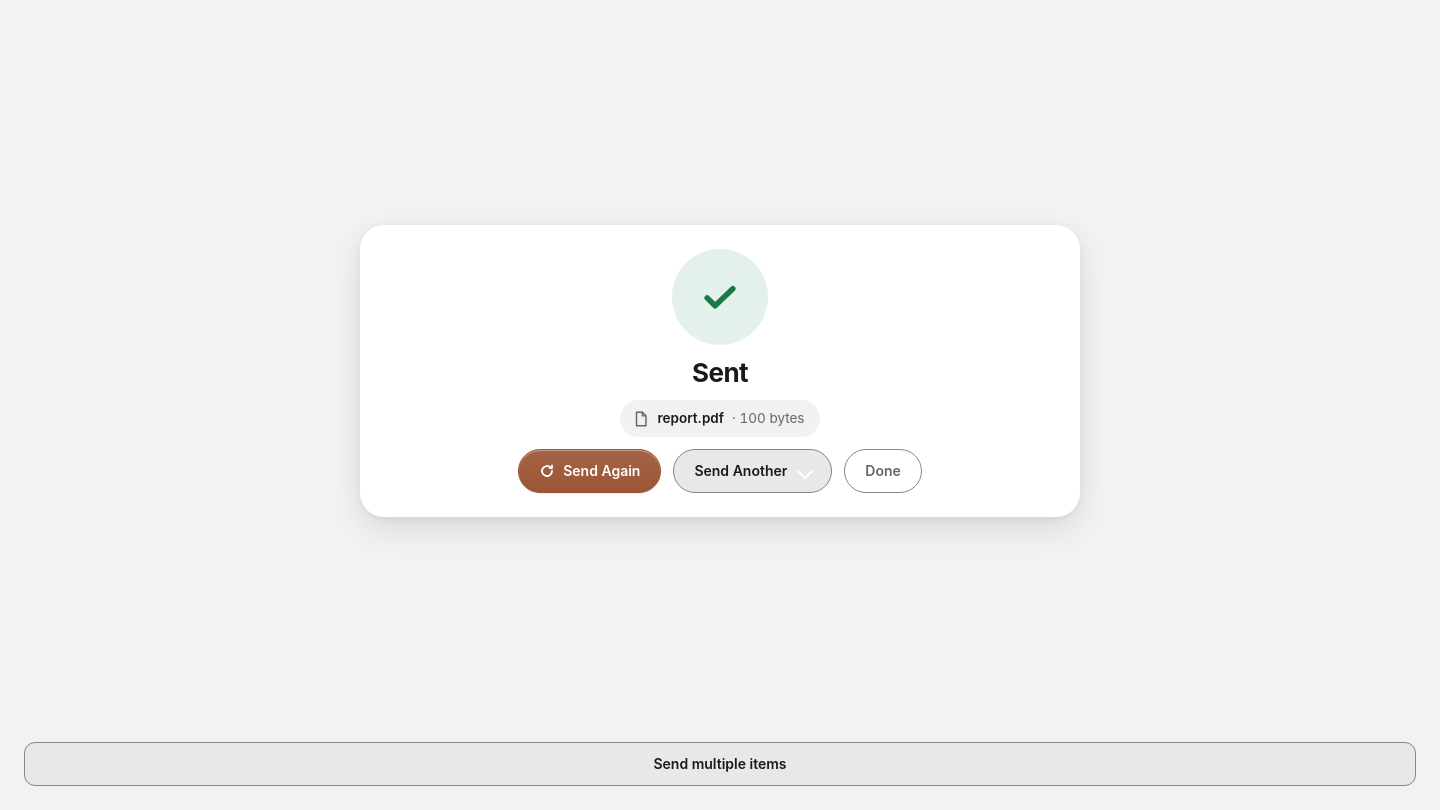
Test: removes Send Again after user Done even when terminal Cancel rejects without reset
Expected: the button "Send Again" is shown, [518, 449, 661, 493]
Click the button "Done". click: (883, 471)
box: [844, 449, 922, 493]
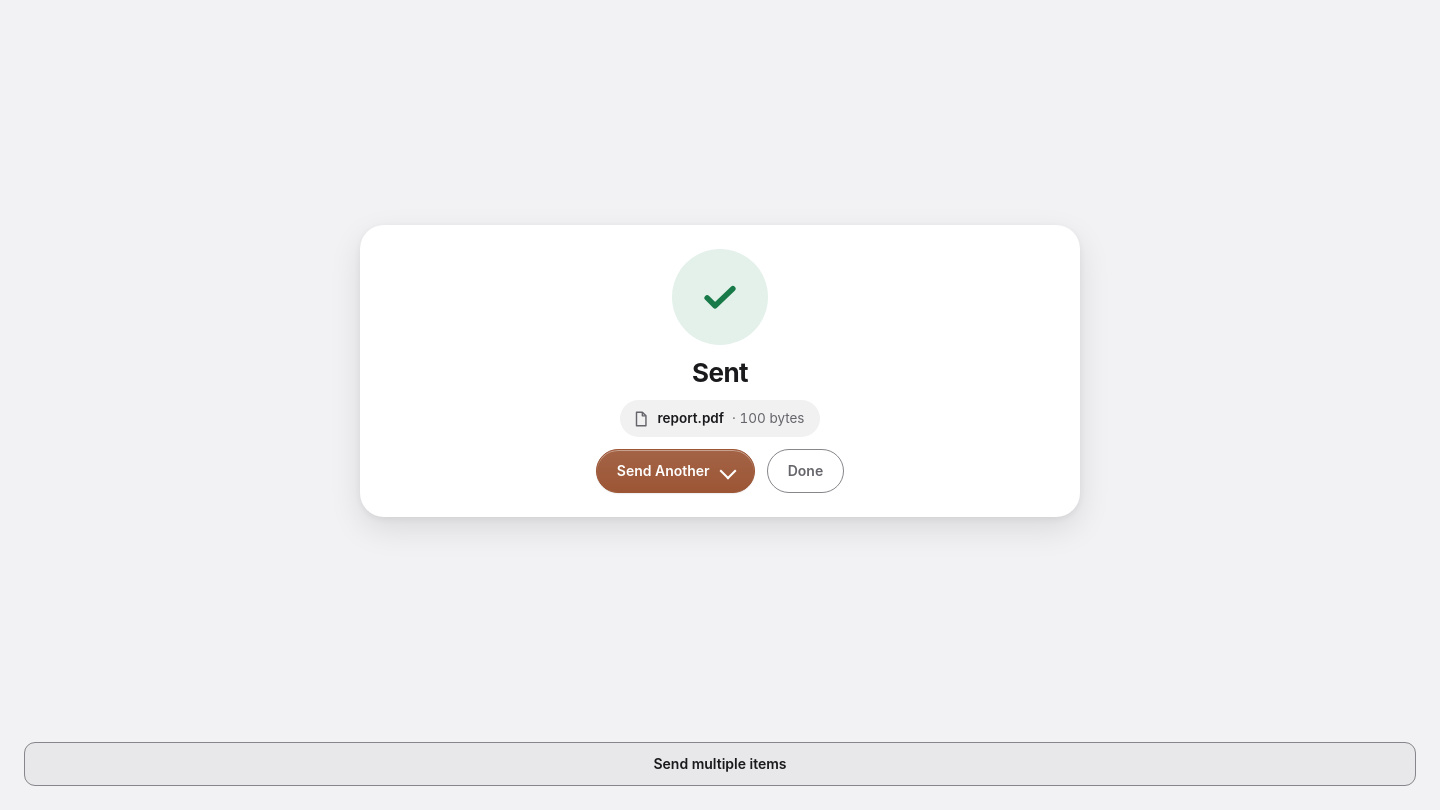
Expected: the button "Send Another" is shown, [596, 449, 755, 493]
Expected: the button "Send Again" is gone
